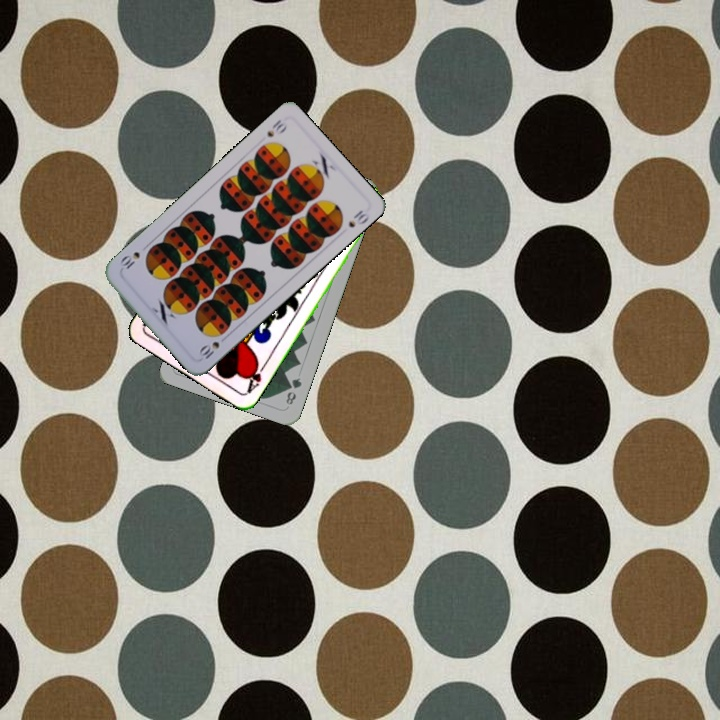G8: (282, 373, 304, 407)
HA: (242, 357, 269, 397)
S10: (195, 331, 230, 362), (263, 115, 289, 140)
